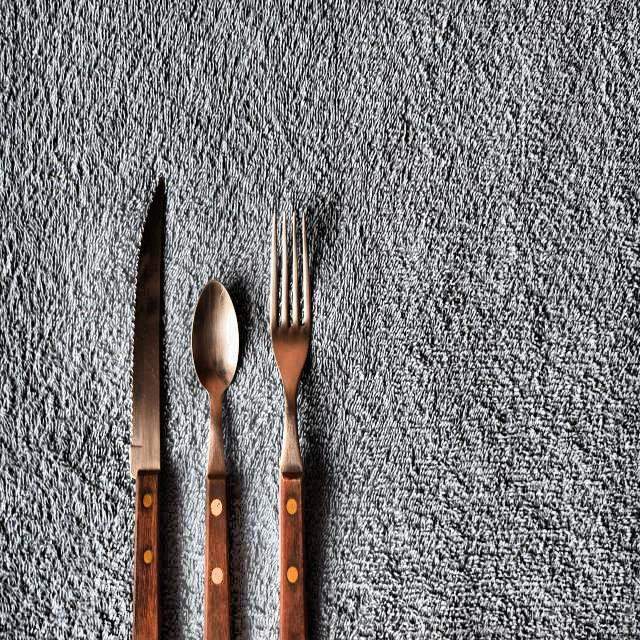knife: (115, 157, 176, 640)
